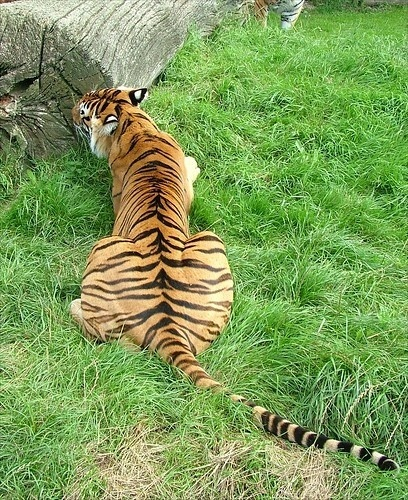tigre: (35, 83, 322, 451)
